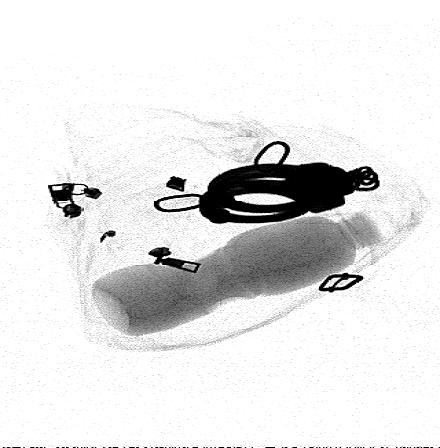HandCuffs: (199, 162, 380, 224)
